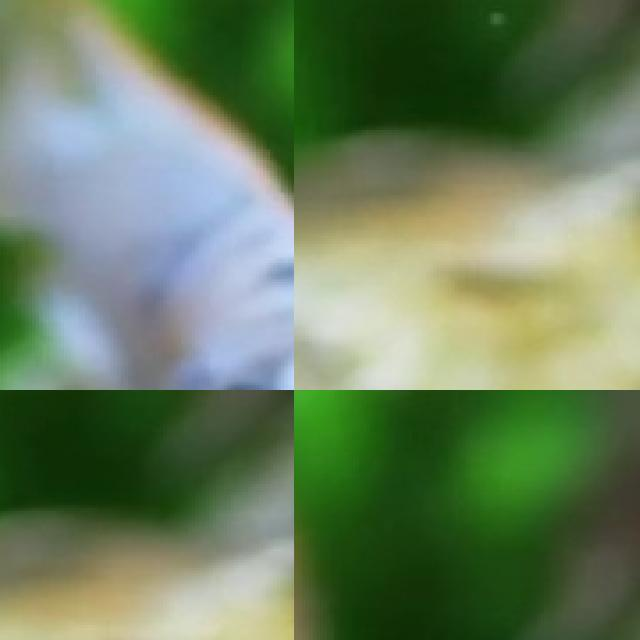fish: (0, 0, 294, 390), (294, 157, 451, 390)
